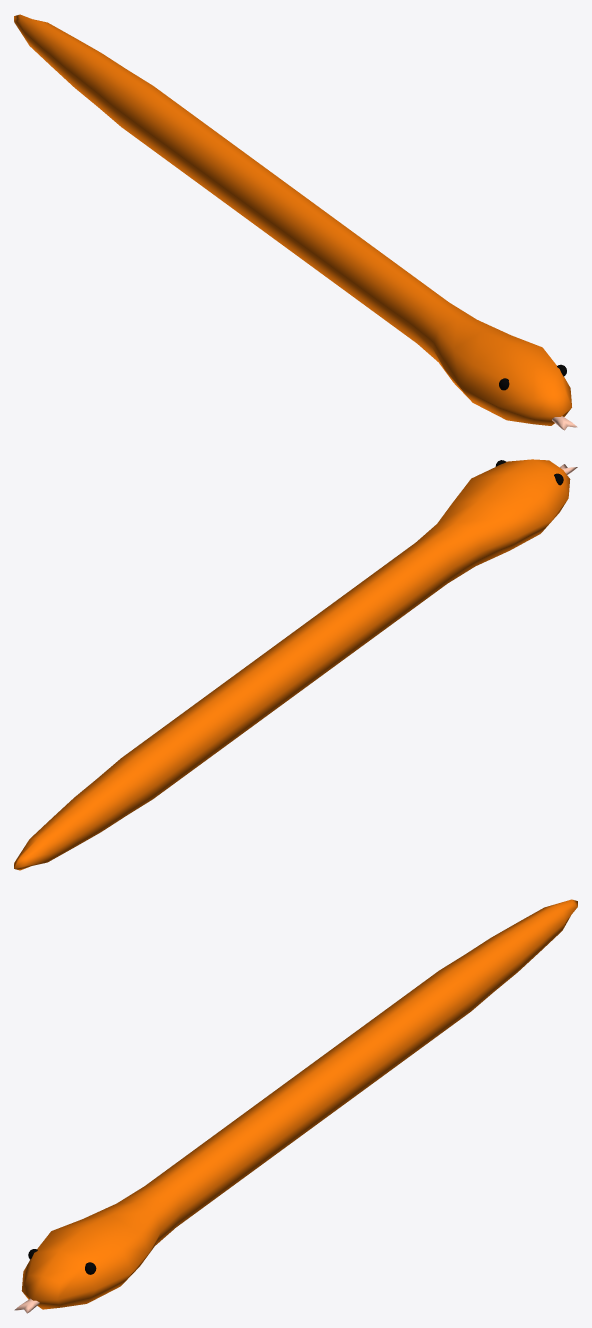
Rendered from snake_prt.fbx.
3 renders of one model, top to bottom at view 1: azimuth 30°, elevation 25°; view 2: azimuth 150°, elevation 25°; view 3: azimuth 330°, elevation 25°, orthographic.
Visible parts, largest first — view 1: polySurface12; view 2: polySurface12; view 3: polySurface12.
Boxes of the visible parts, <box> form: polySurface12: <box>14,14,577,430</box>; polySurface12: <box>14,459,577,870</box>; polySurface12: <box>14,899,577,1313</box>.
Bounding box in the file's own units: 1.33 × 0.767 × 13.8.
